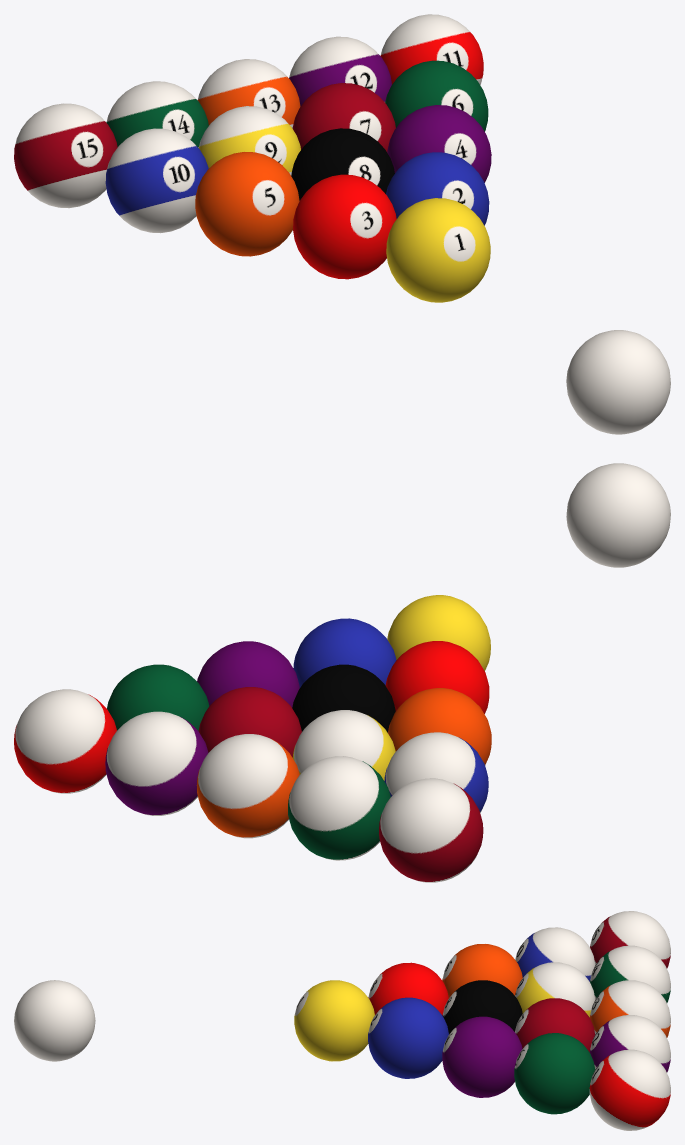
The picture shows the model from 3 angles, top to bottom: view 1: azimuth 30°, elevation 25°; view 2: azimuth 150°, elevation 25°; view 3: azimuth 270°, elevation 25°; orthographic projection. The views are drawn at different scales.
Parts seen in each view (by area): view 1: Ball Clube, Ball1, Ball5, Ball3, Ball15, Ball10, Ball4, Ball11, Ball2, Ball8, Ball13, Ball12 (+4 smaller); view 2: Ball Clube, Ball15, Ball11, Ball12, Ball13, Ball14, Ball10, Ball3, Ball1, Ball7, Ball5, Ball2 (+4 smaller); view 3: Ball Clube, Ball11, Ball6, Ball2, Ball1, Ball4, Ball13, Ball12, Ball5, Ball14, Ball15, Ball8 (+4 smaller).
Part boxes in pixels (x1,y1,x2,y2): Ball Clube: (566, 330, 670, 434); Ball1: (386, 198, 490, 302); Ball5: (195, 152, 299, 256); Ball3: (293, 174, 396, 279); Ball15: (14, 103, 117, 208); Ball10: (105, 128, 208, 233); Ball4: (387, 105, 491, 182); Ball11: (380, 14, 483, 84); Ball2: (386, 152, 489, 225); Ball8: (291, 128, 394, 200); Ball13: (197, 59, 300, 128); Ball12: (289, 36, 391, 106); Ball Clube: (566, 463, 670, 567); Ball15: (379, 778, 483, 882); Ball11: (14, 689, 116, 793); Ball12: (105, 711, 208, 815); Ball13: (196, 734, 299, 838); Ball14: (288, 756, 390, 860); Ball10: (384, 732, 488, 812); Ball3: (385, 641, 489, 713); Ball1: (387, 595, 490, 670); Ball7: (198, 687, 301, 757); Ball5: (388, 688, 491, 765); Ball2: (293, 618, 396, 687); Ball Clube: (14, 980, 95, 1061); Ball11: (589, 1049, 670, 1130); Ball6: (514, 1033, 595, 1114); Ball2: (368, 997, 448, 1078); Ball1: (294, 980, 374, 1061); Ball4: (442, 1016, 522, 1097); Ball13: (589, 980, 670, 1037); Ball12: (590, 1015, 670, 1072); Ball5: (442, 944, 522, 998); Ball14: (590, 945, 670, 1002); Ball15: (590, 911, 670, 968); Ball8: (442, 980, 522, 1034).
Size of the model in its own units: 17.48 by 3.48 by 28.05.
Materials: 16 (16 with a texture image).
